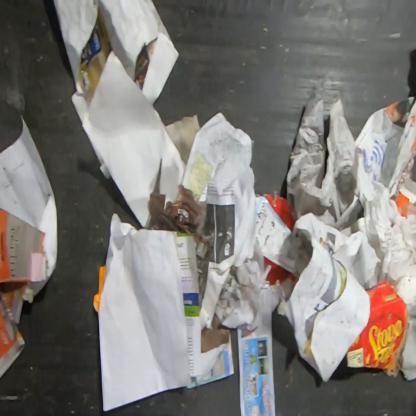cardboard: (346, 280, 406, 372), (264, 192, 294, 231), (263, 257, 294, 284)
